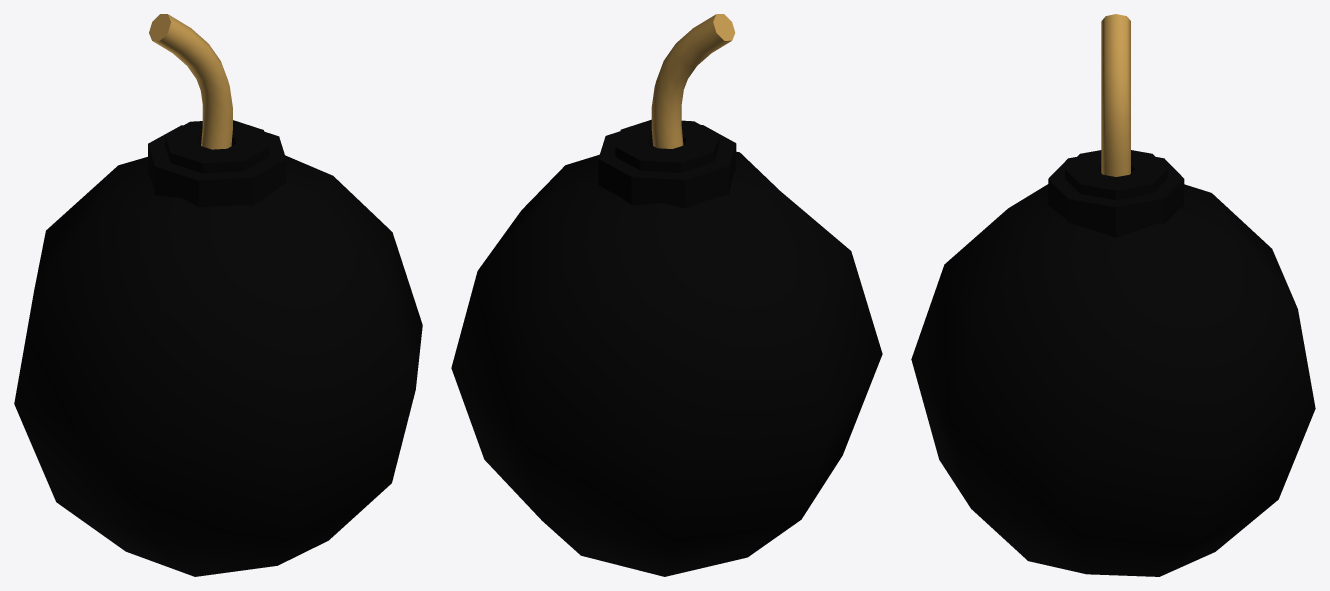
The model's file is bomb3d.glb.
The picture shows the model from 3 angles, left to right: view 1: azimuth 30°, elevation 25°; view 2: azimuth 150°, elevation 25°; view 3: azimuth 270°, elevation 25°; orthographic projection. The views are drawn at different scales.
Parts seen in each view (by area): view 1: bomb_case, bomb_head, fitl; view 2: bomb_case, bomb_head, fitl; view 3: bomb_case, bomb_head, fitl.
Boxes of the visible parts, x1,y1,x2,y2 form: bomb_case: [14, 155, 422, 576]; bomb_head: [148, 120, 286, 207]; fitl: [149, 14, 232, 149]; bomb_case: [451, 151, 882, 576]; bomb_head: [598, 119, 736, 208]; fitl: [651, 14, 735, 148]; bomb_case: [911, 184, 1315, 576]; bomb_head: [1048, 150, 1184, 237]; fitl: [1101, 14, 1130, 176].
Bounding box in the file's own units: 1.91 × 2.74 × 1.91.
